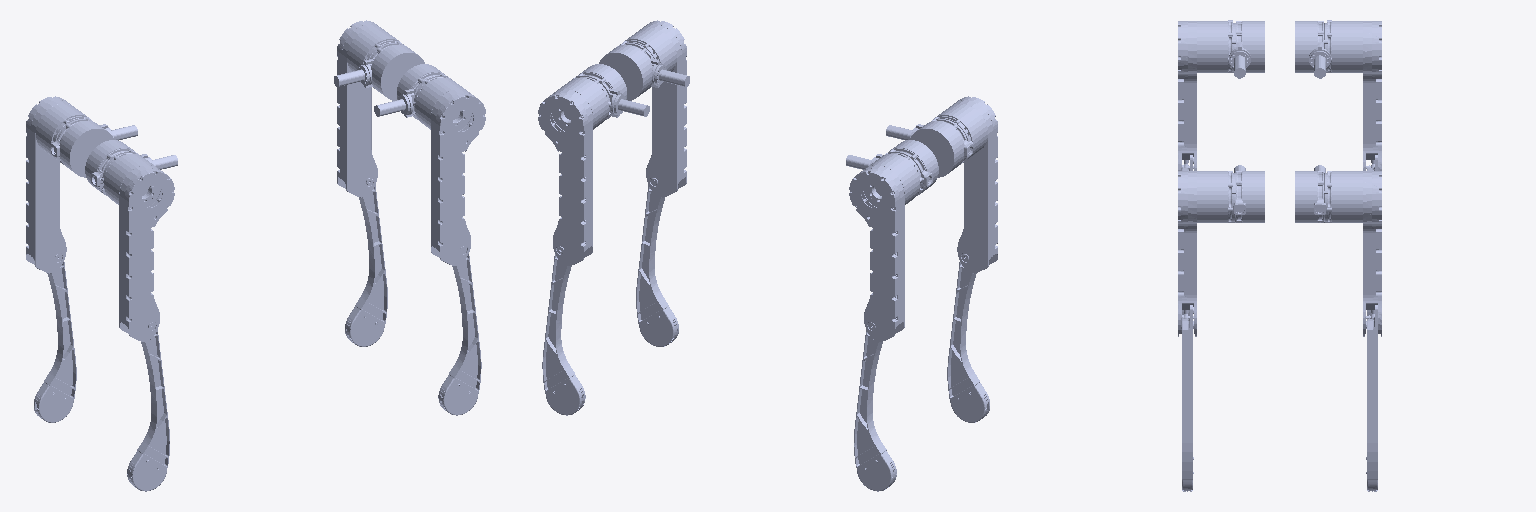
URDF robot description (ls_dog_105):
<?xml version="1.0" encoding="utf-8"?>
<robot
  name="ls_dog_105">
  <link name="base_link">
    <inertial>
      <origin xyz="0.012476 -0.000175 -0.002426" rpy="0 0 0"/>
      <mass value="23.213"/>
      <inertia ixx="0.224" ixy="0.002" ixz="-0.007" iyy="1.399" iyz="-8.168E-05" izz="1.521"/>
    </inertial>
    <visual>
      <origin xyz="0 0 0" rpy="0 0 0"/>
      <geometry>
        <mesh filename="./meshes/base_link.STL"/>
      </geometry>
      <material>
        <color rgba="0.79216 0.81961 0.93333 1"/>
      </material>
    </visual>
    <collision>
      <origin xyz="0 0 0" rpy="0 0 0"/>
      <geometry>
        <mesh filename="./meshes/base_link.STL"/>
      </geometry>
    </collision>
  </link>
  <joint name="fr_joint0" type="revolute">
    <origin xyz="0.44 -0.09925 0" rpy="0 0 0"/>
    <parent link="base_link"/>
    <child link="fr_abad"/>
    <axis xyz="1 0 0"/>
    <limit lower="-3.14" upper="3.14"/> 
  </joint>
  <link name="fr_abad">
    <inertial>
      <origin xyz="-0.008464 0.025325 0" rpy="0 0 0"/>
      <mass value="2.567"/>
      <inertia ixx="0.004" ixy="-5.498E-04" ixz="0.0" iyy="0.007" iyz="1.8E-10" izz="0.006"/>
    </inertial>
    <visual>
      <origin xyz="0 0 0" rpy="0 0 0"/>
      <geometry>
        <mesh filename="./meshes/fr_abad.STL"/>
      </geometry>
      <material>
        <color rgba="0.79216 0.81961 0.93333 1"/>
      </material>
    </visual>
    <collision>
      <origin xyz="0 0 0" rpy="0 0 0"/>
      <geometry>
        <mesh filename="./meshes/fr_abad.STL"/>
      </geometry>
    </collision>
  </link>

  <joint name="fr_joint1" type="revolute">
    <origin xyz="0 -0.12975 0" rpy="0 0 0"/>
    <parent link="fr_abad"/>
    <child link="fr_thigh"/>
    <axis xyz="0 -1 0"/>
    <limit lower="-3.14" upper="3.14"/>
  </joint>

  <link name="fr_thigh">
    <inertial>
      <origin xyz="-0.00932 0.042788 -0.057446" rpy="0 0 0"/>
      <mass value="3.916"/>
      <inertia ixx="0.056" ixy="-0.002" ixz="-0.005" iyy="0.054" iyz="-0.01" izz="0.011"/>
    </inertial>
    <visual>
      <origin xyz="0 0 0" rpy="0 0 0"/>
      <geometry>
        <mesh filename="./meshes/fr_thigh.STL"/>
      </geometry>
      <material>
        <color rgba="0.79216 0.81961 0.93333 1"/>
      </material>
    </visual>
    <collision>
      <origin xyz="0 0 0" rpy="0 0 0"/>
      <geometry>
        <mesh filename="./meshes/fr_thigh.STL"/>
      </geometry>
    </collision>
  </link>
  
  <joint name="fr_joint2" type="revolute">
    <origin xyz="0 0 -0.35" rpy="0 0 0"/>
    <parent link="fr_thigh"/>
    <child link="fr_calf"/>
    <axis xyz="0 -1 0"/>
    <limit lower="-3.14" upper="3.14"/>
  </joint>

  <link name="fr_calf">
    <inertial>
      <origin xyz="0.006544 0.000652 -0.256" rpy="0 0 0"/>
      <mass value="0.614"/>
      <inertia ixx="0.018" ixy="3.104E-06" ixz="-7.971E-05" iyy="0.019" iyz="-1.131E-04" izz="0.0011"/>
    </inertial>
    <visual>
      <origin xyz="0 0 0" rpy="0 0 0"/>
      <geometry>
        <mesh filename="./meshes/fr_calf.STL"/>
      </geometry>
      <material>
        <color rgba="0.79216 0.81961 0.93333 1"/>
      </material>
    </visual>
    <collision>
      <origin xyz="0 0 0" rpy="0 0 0"/>
      <geometry>
        <mesh filename="./meshes/fr_calf.STL"/>
      </geometry>
    </collision>
  </link>
  
  <joint name="fl_joint0" type="revolute">
    <origin xyz="0.44 0.09925 0" rpy="0 0 0"/>
    <parent link="base_link"/>
    <child link="fl_abad"/>
    <axis xyz="1 0 0"/>
    <limit lower="-3.14" upper="3.14"/>
  </joint>

  <link name="fl_abad">
    <inertial>
      <origin xyz="-0.008464 -0.025325 0" rpy="0 0 0"/>
      <mass value="2.567"/>
      <inertia ixx="0.004" ixy="5.498E-04" ixz="0.0" iyy="0.007" iyz="-1.8E-10" izz="0.006"/>
    </inertial>
    <visual>
      <origin xyz="0 0 0" rpy="0 0 0"/>
      <geometry>
        <mesh filename="./meshes/fl_abad.STL"/>
      </geometry>
      <material>
        <color rgba="0.79216 0.81961 0.93333 1"/>
      </material>
    </visual>
    <collision>
      <origin xyz="0 0 0" rpy="0 0 0"/>
      <geometry>
        <mesh filename="./meshes/fl_abad.STL"/>
      </geometry>
    </collision>
  </link>
  
  <joint name="fl_joint1" type="revolute">
    <origin xyz="0 0.12975 0" rpy="0 0 0"/>
    <parent link="fl_abad"/>
    <child link="fl_thigh"/>
    <axis xyz="0 -1 0"/>
    <limit lower="-3.14" upper="3.14"/>
  </joint>

  <link name="fl_thigh">
    <inertial>
      <origin xyz="-0.00932 -0.042788 -0.057446" rpy="0 0 0"/>
      <mass value="3.916"/>
      <inertia ixx="0.056" ixy="0.002" ixz="-0.005" iyy="0.054" iyz="0.01" izz="0.011"/>
    </inertial>
    <visual>
      <origin xyz="0 0 0" rpy="0 0 0"/>
      <geometry>
        <mesh filename="./meshes/fl_thigh.STL"/>
      </geometry>
      <material>
       <color rgba="0.79216 0.81961 0.93333 1"/>
      </material>
    </visual>
    <collision>
      <origin xyz="0 0 0" rpy="0 0 0"/>
      <geometry>
        <mesh filename="./meshes/fl_thigh.STL"/>
      </geometry>
    </collision>
  </link>
  
  <joint name="fl_joint2" type="revolute">
    <origin xyz="0 0 -0.35" rpy="0 0 0"/>
    <parent link="fl_thigh"/>
    <child link="fl_calf"/>
    <axis xyz="0 -1 0"/>
    <limit lower="-3.14" upper="3.14"/>
  </joint>

  <link name="fl_calf">
    <inertial>
      <origin xyz="0.006544 -0.000652 -0.256" rpy="0 0 0"/>
      <mass value="0.614"/>
      <inertia ixx="0.018" ixy="-3.104E-06" ixz="-7.971E-05" iyy="0.019" iyz="1.131E-04" izz="0.0011"/>
    </inertial>
    <visual>
      <origin xyz="0 0 0" rpy="0 0 0"/>
      <geometry>
        <mesh filename="./meshes/fl_calf.STL"/>
      </geometry>
      <material>
        <color rgba="0.79216 0.81961 0.93333 1"/>
      </material>
    </visual>
    <collision>
      <origin xyz="0 0 0" rpy="0 0 0"/>
      <geometry>
        <mesh filename="./meshes/fl_calf.STL"/>
      </geometry>
    </collision>
  </link>
  
  <joint name="hr_joint0" type="revolute">
    <origin xyz="-0.44 -0.09925 0" rpy="0 0 0"/>
    <parent link="base_link"/>
    <child link="hr_abad"/>
    <axis xyz="1 0 0"/>
    <limit lower="-3.14" upper="3.14"/>
  </joint>

  <link name="hr_abad">
    <inertial>
      <origin xyz="0.008464 0.025325 0" rpy="0 0 0"/>
      <mass value="2.567"/>
      <inertia ixx="0.004" ixy="5.498E-04" ixz="0.0" iyy="0.007" iyz="1.8E-10" izz="0.006"/>
    </inertial>
    <visual>
      <origin xyz="0 0 0" rpy="0 0 0"/>
      <geometry>
        <mesh filename="./meshes/hr_abad.STL"/>
      </geometry>
      <material>
        <color rgba="0.79216 0.81961 0.93333 1"/>
      </material>
    </visual>
    <collision>
      <origin xyz="0 0 0" rpy="0 0 0"/>
      <geometry>
        <mesh filename="./meshes/hr_abad.STL"/>
      </geometry>
    </collision>
  </link>
  
  <joint name="hr_joint1" type="revolute">
    <origin xyz="0 -0.12975 0" rpy="0 0 0"/>
    <parent link="hr_abad"/>
    <child link="hr_thigh"/>
    <axis xyz="0 -1 0"/>
    <limit lower="-3.14" upper="3.14"/>
  </joint>

  <link name="hr_thigh">
    <inertial>
      <origin xyz="-0.00932 0.042788 -0.057446" rpy="0 0 0"/>
      <mass value="3.916"/>
      <inertia ixx="0.056" ixy="-0.002" ixz="-0.005" iyy="0.054" iyz="-0.01" izz="0.011"/>
    </inertial>
    <visual>
      <origin xyz="0 0 0" rpy="0 0 0"/>
      <geometry>
        <mesh filename="./meshes/hr_thigh.STL"/>
      </geometry>
      <material>
        <color rgba="0.79216 0.81961 0.93333 1"/>
      </material>
    </visual>
    <collision>
      <origin xyz="0 0 0" rpy="0 0 0"/>
      <geometry>
        <mesh filename="./meshes/hr_thigh.STL"/>
      </geometry>
    </collision>
  </link>
  
  <joint name="hr_joint2" type="revolute">
    <origin xyz="0 0 -0.35" rpy="0 0 0"/>
    <parent link="hr_thigh"/>
    <child link="hr_calf"/>
    <axis xyz="0 -1 0"/>
    <limit lower="-3.14" upper="3.14"/>
  </joint>

  <link name="hr_calf">
    <inertial>
      <origin xyz="0.006544 0.000652 -0.256" rpy="0 0 0"/>
      <mass value="0.614"/>
      <inertia ixx="0.018" ixy="3.104E-06" ixz="-7.971E-05" iyy="0.019" iyz="-1.131E-04" izz="0.0011"/>
    </inertial>
    <visual>
      <origin xyz="0 0 0" rpy="0 0 0"/>
      <geometry>
        <mesh filename="./meshes/hr_calf.STL"/>
      </geometry>
      <material>
        <color rgba="0.79216 0.81961 0.93333 1"/>
      </material>
    </visual>
    <collision>
      <origin xyz="0 0 0" rpy="0 0 0"/>
      <geometry>
        <mesh filename="./meshes/hr_calf.STL"/>
      </geometry>
    </collision>
  </link>
  
  <joint name="hl_joint0" type="revolute">
    <origin xyz="-0.44 0.09925 0" rpy="0 0 0"/>
    <parent link="base_link"/>
    <child link="hl_abad"/>
    <axis xyz="1 0 0"/>
    <limit lower="-3.14" upper="3.14"/>
  </joint>

  <link name="hl_abad">
    <inertial>
      <origin xyz="0.008464 -0.025325 0" rpy="0 0 0"/>
      <mass value="2.567"/>
      <inertia ixx="0.004" ixy="-5.498E-04" ixz="0.0" iyy="0.007" iyz="-1.8E-10" izz="0.006"/>
    </inertial>
    <visual>
      <origin xyz="0 0 0" rpy="0 0 0"/>
      <geometry>
        <mesh filename="./meshes/hl_abad.STL"/>
      </geometry>
      <material>
        <color rgba="0.79216 0.81961 0.93333 1"/>
      </material>
    </visual>
    <collision>
      <origin xyz="0 0 0" rpy="0 0 0"/>
      <geometry>
        <mesh filename="./meshes/hl_abad.STL"/>
      </geometry>
    </collision>
  </link>
  
   <joint name="hl_joint1" type="revolute">
    <origin xyz="0 0.12975 0" rpy="0 0 0"/>
    <parent link="hl_abad"/>
    <child link="hl_thigh"/>
    <axis xyz="0 -1 0"/>
    <limit lower="-3.14" upper="3.14"/>
  </joint>
  
  <link name="hl_thigh">
    <inertial>
      <origin xyz="-0.00932 -0.042788 -0.057446" rpy="0 0 0"/>
      <mass value="3.916"/>
      <inertia ixx="0.056" ixy="0.002" ixz="-0.005" iyy="0.054" iyz="0.01" izz="0.011"/>
    </inertial>
    <visual>
      <origin xyz="0 0 0" rpy="0 0 0"/>
      <geometry>
        <mesh filename="./meshes/hl_thigh.STL"/>
      </geometry>
      <material>
        <color rgba="0.79216 0.81961 0.93333 1"/>
      </material>
    </visual>
    <collision>
      <origin xyz="0 0 0" rpy="0 0 0"/>
      <geometry>
        <mesh filename="./meshes/hl_thigh.STL"/>
      </geometry>
    </collision>
  </link>
 
 <joint name="hl_joint2" type="revolute">
    <origin xyz="0 0 -0.35" rpy="0 0 0"/>
    <parent link="hl_thigh"/>
    <child link="hl_calf"/>
    <axis xyz="0 -1 0"/>
    <limit lower="-3.14" upper="3.14"/>
  </joint>

  <link name="hl_calf">
    <inertial>
      <origin xyz="0.006544 -0.000652 -0.256" rpy="0 0 0"/>
      <mass value="0.614"/>
      <inertia ixx="0.018" ixy="-3.104E-06" ixz="-7.971E-05" iyy="0.019" iyz="1.131E-04" izz="0.0011"/>
    </inertial>
    <visual>
      <origin xyz="0 0 0" rpy="0 0 0"/>
      <geometry>
        <mesh filename="./meshes/hl_calf.STL"/>
      </geometry>
      <material>
        <color rgba="0.79216 0.81961 0.93333 1"/>
      </material>
    </visual>
    <collision>
      <origin xyz="0 0 0" rpy="0 0 0"/>
      <geometry>
        <mesh filename="./meshes/hl_calf.STL"/>
      </geometry>
    </collision>
  </link>
</robot>

--- What the picture shows (computed from the rendered views, not written in the file) ---
Views: 3 orthographic renders of the robot side by side, from view 1: azimuth 30°, elevation 25°; view 2: azimuth 150°, elevation 25°; view 3: azimuth 270°, elevation 25°.
Robot: ls_dog_105 — 13 links, 12 joints (12 revolute); root link base_link; default pose: every joint at zero.
Visible links, largest first — view 1: hr_thigh, fr_thigh, hl_thigh, fl_thigh, fl_calf, hr_calf, hl_calf, fr_calf, fl_abad, hl_abad, fr_abad, hr_abad; view 2: hl_thigh, fl_thigh, hr_thigh, fr_thigh, fr_calf, hl_calf, fl_calf, hr_calf, fr_abad, hr_abad, fl_abad, hl_abad; view 3: fr_thigh, fl_thigh, hr_thigh, hl_thigh, fr_calf, fl_calf, hl_abad, hr_abad, fr_abad, fl_abad.
Link boxes in pixels (<box>): hr_thigh: <box>101,153,174,341</box>; fr_thigh: <box>413,77,485,265</box>; hl_thigh: <box>26,96,89,273</box>; fl_thigh: <box>337,20,406,197</box>; fl_calf: <box>345,177,387,346</box>; hr_calf: <box>127,321,169,491</box>; hl_calf: <box>34,253,76,422</box>; fr_calf: <box>438,246,481,415</box>; fl_abad: <box>334,43,424,100</box>; hl_abad: <box>51,119,137,177</box>; fr_abad: <box>374,64,447,119</box>; hr_abad: <box>85,140,177,195</box>; hl_thigh: <box>849,153,922,341</box>; fl_thigh: <box>538,77,610,265</box>; hr_thigh: <box>934,96,997,273</box>; fr_thigh: <box>617,20,686,197</box>; fr_calf: <box>636,177,678,346</box>; hl_calf: <box>854,321,896,491</box>; fl_calf: <box>542,245,585,415</box>; hr_calf: <box>947,253,989,422</box>; fr_abad: <box>599,43,689,100</box>; hr_abad: <box>886,119,972,177</box>; fl_abad: <box>576,64,649,119</box>; hl_abad: <box>846,140,938,195</box>; fr_thigh: <box>1178,171,1235,336</box>; fl_thigh: <box>1324,171,1381,336</box>; hr_thigh: <box>1178,20,1235,170</box>; hl_thigh: <box>1324,20,1381,170</box>; fr_calf: <box>1182,305,1193,491</box>; fl_calf: <box>1366,305,1377,491</box>; hl_abad: <box>1295,21,1330,78</box>; hr_abad: <box>1229,21,1264,78</box>; fr_abad: <box>1233,165,1264,222</box>; fl_abad: <box>1295,165,1326,222</box>.
Bounding box of the posed robot: 1.03 × 0.506 × 0.865 m (x, y, z).
12 mesh visuals loaded from 13 distinct referenced files (12 binary STL); not drawn: 1 (reference not matched to a file when rendering).
